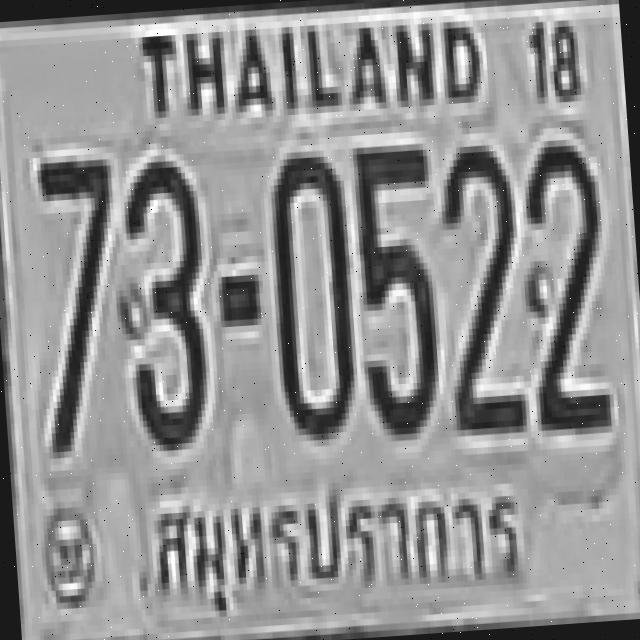0: (264, 142, 357, 436)
2: (514, 131, 611, 431), (435, 137, 525, 430)
3: (110, 153, 210, 446)
5: (348, 137, 442, 436)
7: (31, 152, 128, 452), (34, 152, 127, 432)
SamutPrakan: (142, 461, 540, 638)
